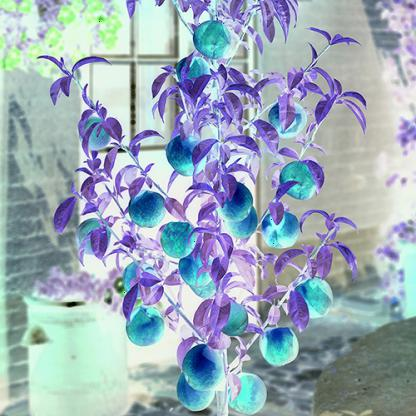peach leaf: (115, 284, 141, 331), (252, 118, 281, 159), (188, 137, 222, 171), (51, 191, 77, 235), (84, 224, 107, 270), (289, 285, 310, 331), (270, 249, 307, 275), (71, 53, 115, 74), (210, 292, 229, 339), (279, 88, 295, 134), (147, 72, 174, 99), (215, 230, 234, 268), (189, 74, 213, 104), (266, 196, 289, 227), (225, 134, 262, 153), (317, 242, 335, 280), (103, 116, 126, 145), (313, 92, 335, 122), (219, 172, 239, 204), (165, 195, 186, 223), (210, 255, 226, 289), (129, 172, 144, 201)
